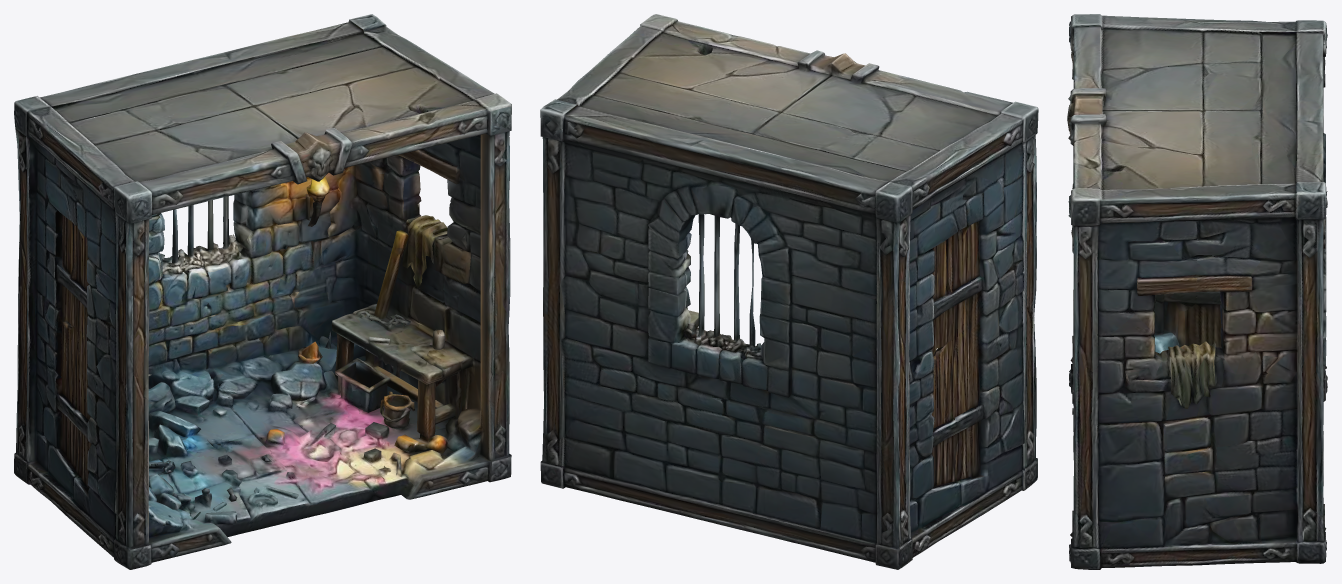
The model's file is sala.glb.
The picture shows the model from 3 angles, left to right: view 1: azimuth 30°, elevation 25°; view 2: azimuth 150°, elevation 25°; view 3: azimuth 270°, elevation 25°; orthographic projection.
Visible parts, largest first — view 1: tripo_node_cf3ceff7-5e38-4b6e-9f29-736ba7a446cf; view 2: tripo_node_cf3ceff7-5e38-4b6e-9f29-736ba7a446cf; view 3: tripo_node_cf3ceff7-5e38-4b6e-9f29-736ba7a446cf.
Part boxes in pixels (x1,y1,x2,y2): tripo_node_cf3ceff7-5e38-4b6e-9f29-736ba7a446cf: (14, 14, 511, 569); tripo_node_cf3ceff7-5e38-4b6e-9f29-736ba7a446cf: (540, 14, 1038, 569); tripo_node_cf3ceff7-5e38-4b6e-9f29-736ba7a446cf: (1067, 14, 1327, 569).
Bounding box in the file's own units: 0.9808 × 0.9274 × 0.5777.
Materials: 1 (1 with a texture image).
